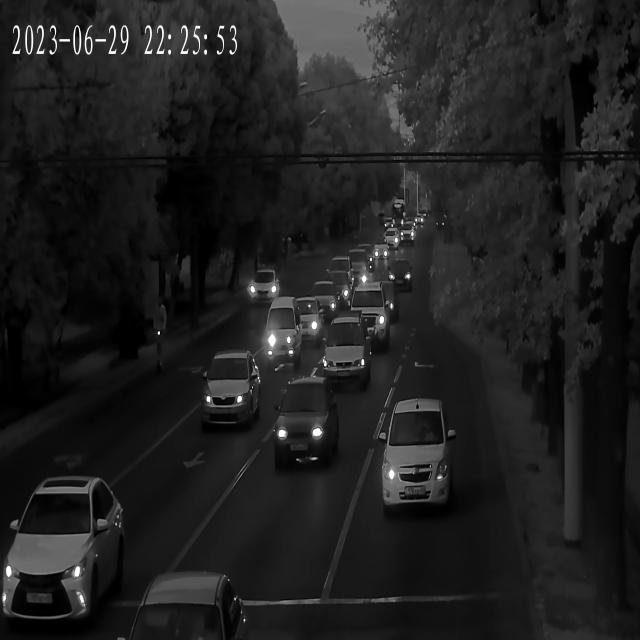Car: (5, 480, 115, 635), (376, 394, 461, 515), (123, 568, 251, 638), (273, 380, 338, 470), (191, 352, 262, 432), (314, 318, 376, 389), (342, 286, 396, 340), (258, 308, 302, 370), (329, 308, 385, 356), (282, 296, 325, 341), (306, 281, 343, 320), (327, 258, 366, 293), (316, 273, 354, 308), (248, 272, 283, 308), (386, 260, 412, 295), (340, 248, 372, 274), (382, 232, 400, 251), (396, 227, 413, 244), (372, 244, 388, 259)
